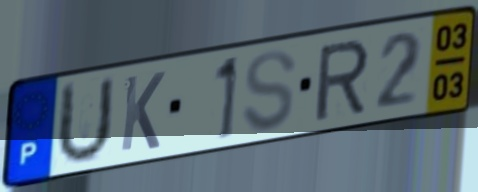1: (212, 53, 241, 143)
2: (374, 28, 425, 113)
K: (117, 69, 168, 155)
R: (312, 36, 373, 124)
S: (238, 47, 299, 135)
U: (52, 73, 117, 170)
